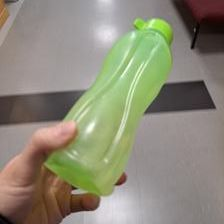bottle: (44, 16, 175, 199)
